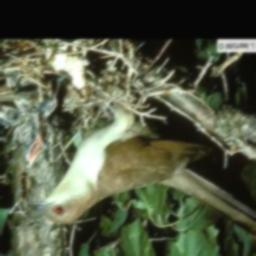Cuckoo: (25, 106, 256, 255)
